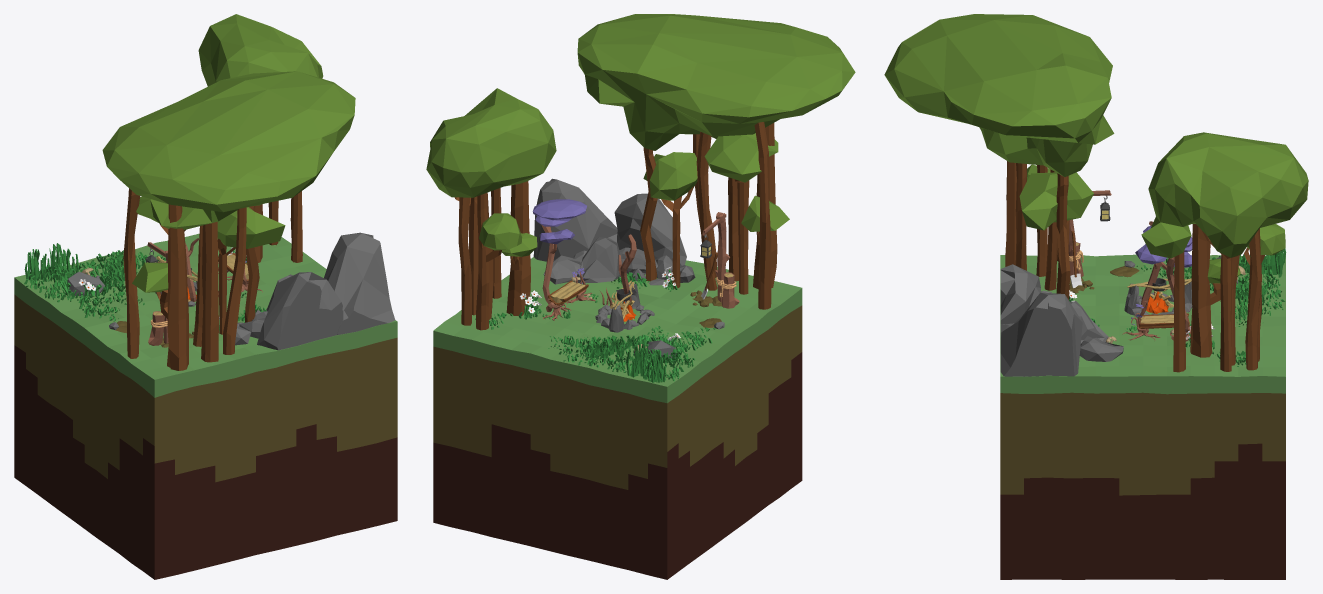
The model's file is Sketchfab_2018_04_04_02_53_38.fbx.
3 views of the same model, side by side, from view 1: azimuth 30°, elevation 25°; view 2: azimuth 150°, elevation 25°; view 3: azimuth 270°, elevation 25° (orthographic). The views are drawn at different scales.
Visible parts, largest first — view 1: Cube, Mball.010, Mball.000, Icosphere.027, Icosphere.028, Cylinder.009, Cylinder.010, Cylinder.006, Cylinder.007, Cylinder.011, Cylinder.004, Cylinder.012 (+3 smaller); view 2: Cube, Mball.010, Mball.000, Icosphere.027, Icosphere.028, Cylinder.006, Cylinder.001, Mball.011, Icosphere.006, Mball.006, Cylinder.002, Cylinder.012 (+12 smaller); view 3: Cube, Mball.010, Mball.000, Icosphere.027, Cylinder.001, Icosphere.028, Cylinder.005, Cylinder.003, Cylinder.011, Cylinder.004, Mball.011, Cylinder.010 (+7 smaller).
Boxes of the visible parts, <box> form: Cube: <box>14,233,397,579</box>; Mball.010: <box>102,71,355,292</box>; Mball.000: <box>198,14,323,86</box>; Icosphere.027: <box>324,232,395,334</box>; Icosphere.028: <box>257,272,343,350</box>; Cylinder.009: <box>156,204,188,370</box>; Cylinder.010: <box>201,221,218,362</box>; Cylinder.006: <box>123,188,140,358</box>; Cylinder.007: <box>223,207,246,354</box>; Cylinder.011: <box>245,206,259,322</box>; Cylinder.004: <box>290,191,302,262</box>; Cylinder.012: <box>193,225,203,346</box>; Cube: <box>433,257,802,579</box>; Mball.010: <box>577,14,855,231</box>; Mball.000: <box>426,88,556,197</box>; Icosphere.027: <box>533,178,617,261</box>; Icosphere.028: <box>614,193,686,265</box>; Cylinder.006: <box>754,122,771,309</box>; Cylinder.001: <box>506,181,530,316</box>; Mball.011: <box>479,213,537,256</box>; Icosphere.006: <box>577,237,622,282</box>; Mball.006: <box>532,199,586,244</box>; Cylinder.002: <box>476,193,501,330</box>; Cylinder.012: <box>696,132,717,290</box>; Cube: <box>1000,254,1285,579</box>; Mball.010: <box>884,14,1114,230</box>; Mball.000: <box>1141,132,1308,258</box>; Icosphere.027: <box>1000,292,1082,376</box>; Cylinder.001: <box>1190,224,1220,357</box>; Icosphere.028: <box>1000,264,1040,332</box>; Cylinder.005: <box>1245,230,1261,370</box>; Cylinder.003: <box>1202,231,1237,371</box>; Cylinder.011: <box>1056,173,1070,299</box>; Cylinder.004: <box>1173,251,1185,372</box>; Mball.011: <box>1207,224,1285,283</box>; Cylinder.010: <box>1006,161,1016,266</box>.
Bounding box in the file's own units: 2467 × 3409 × 2882.
